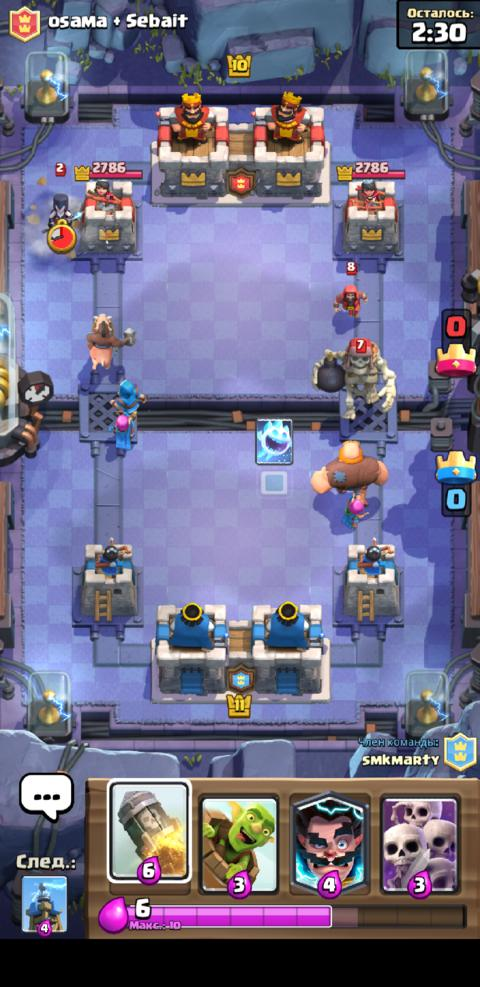ally_archer: (107, 410, 137, 449), (339, 491, 369, 530)
ally_giant: (309, 438, 389, 494)
ally_hog_rider: (85, 312, 135, 370)
ally_wizard: (108, 377, 145, 410)
enemy_giant_skeleton: (309, 337, 397, 420)
enemy_night_witch: (38, 160, 82, 237)
enemy_wizard: (331, 259, 367, 319)
